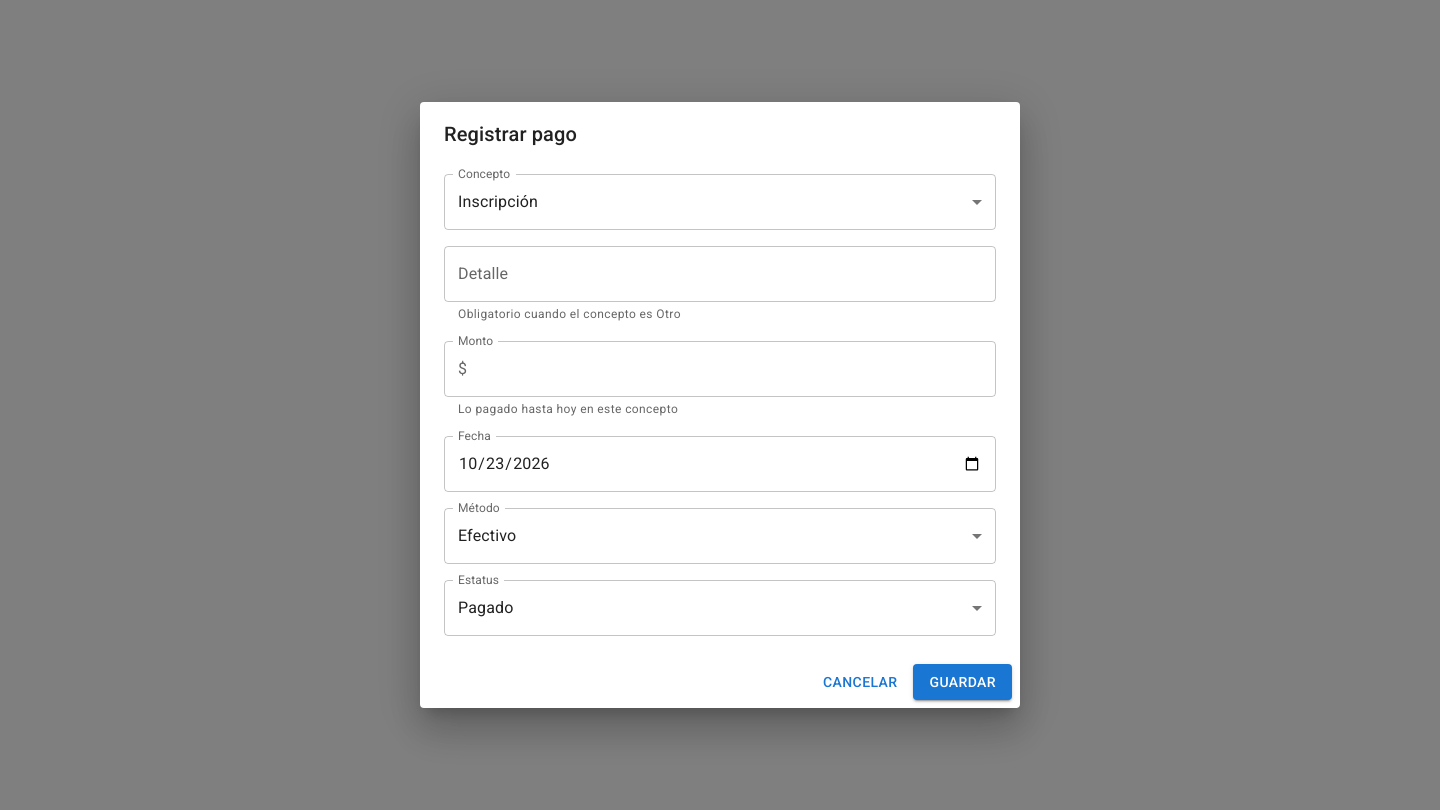
Test: Otro without a note is blocked with a field error
The width and height of the screenshot is (1440, 810).
Select "Otro" in the dropdown labelled "Concepto" at (720, 202), box [444, 174, 996, 230]
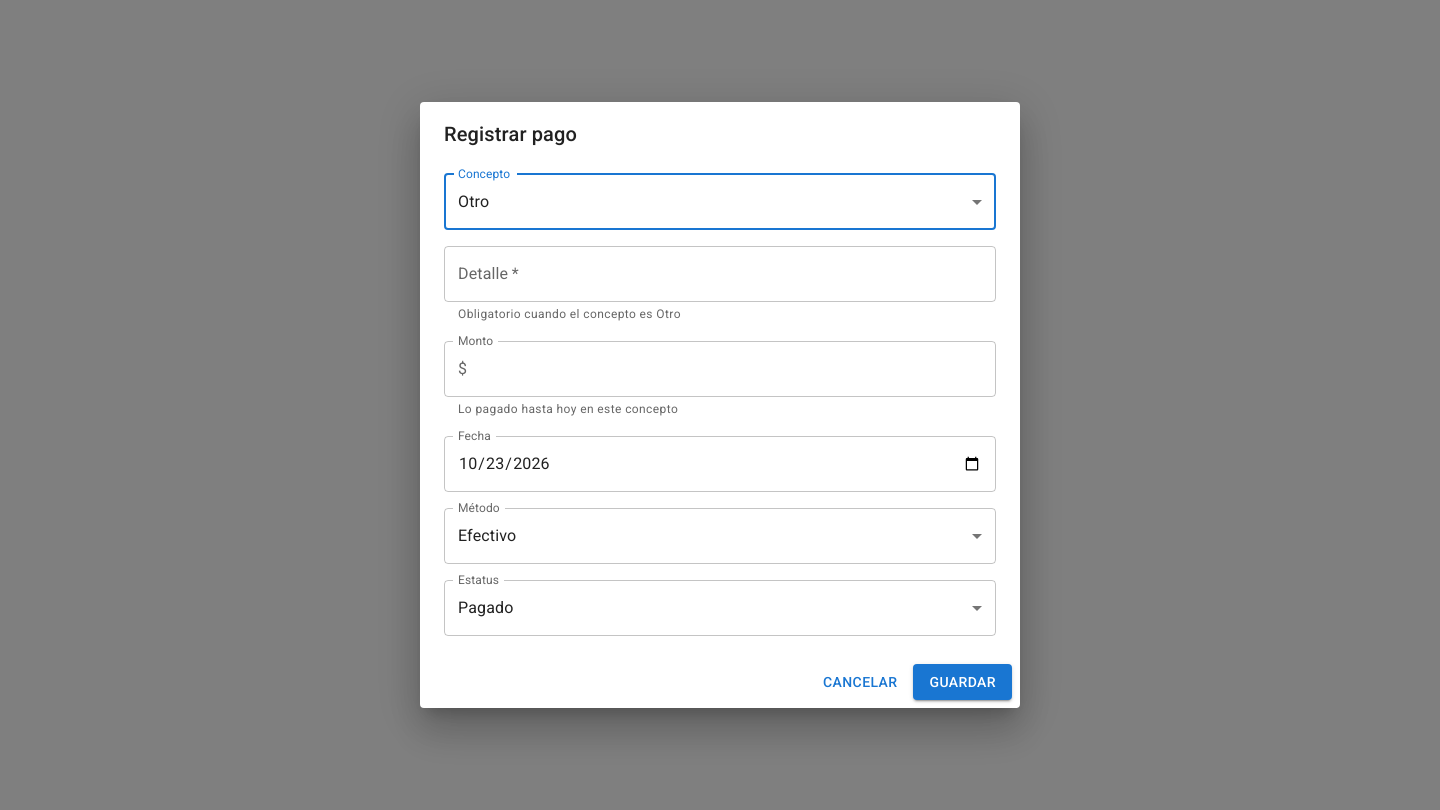
Type "100" into the field labelled "Monto".
click(736, 369); type("100")  # box [475, 341, 996, 397]
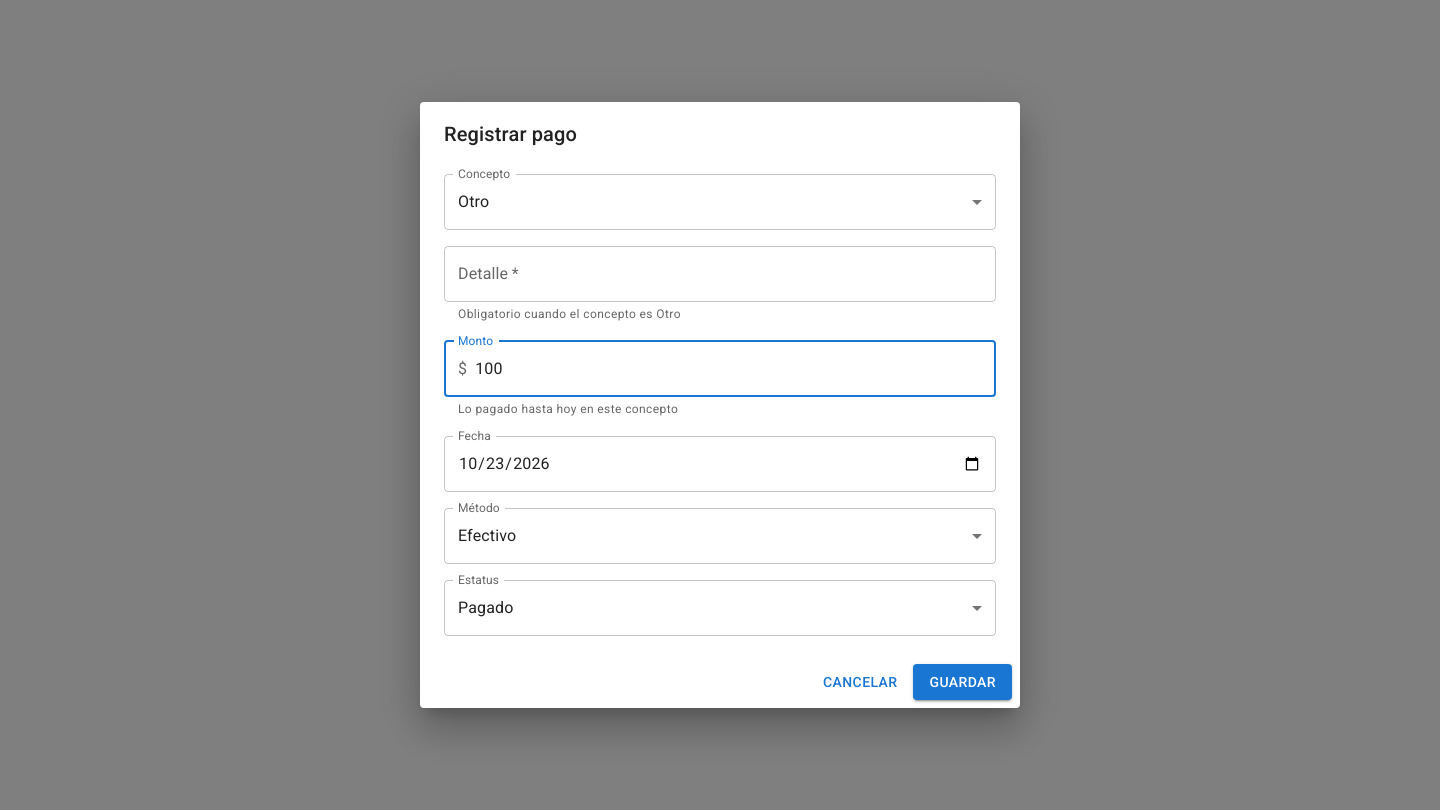
Click the button "Guardar".
click(963, 682)  # box [914, 664, 1012, 700]
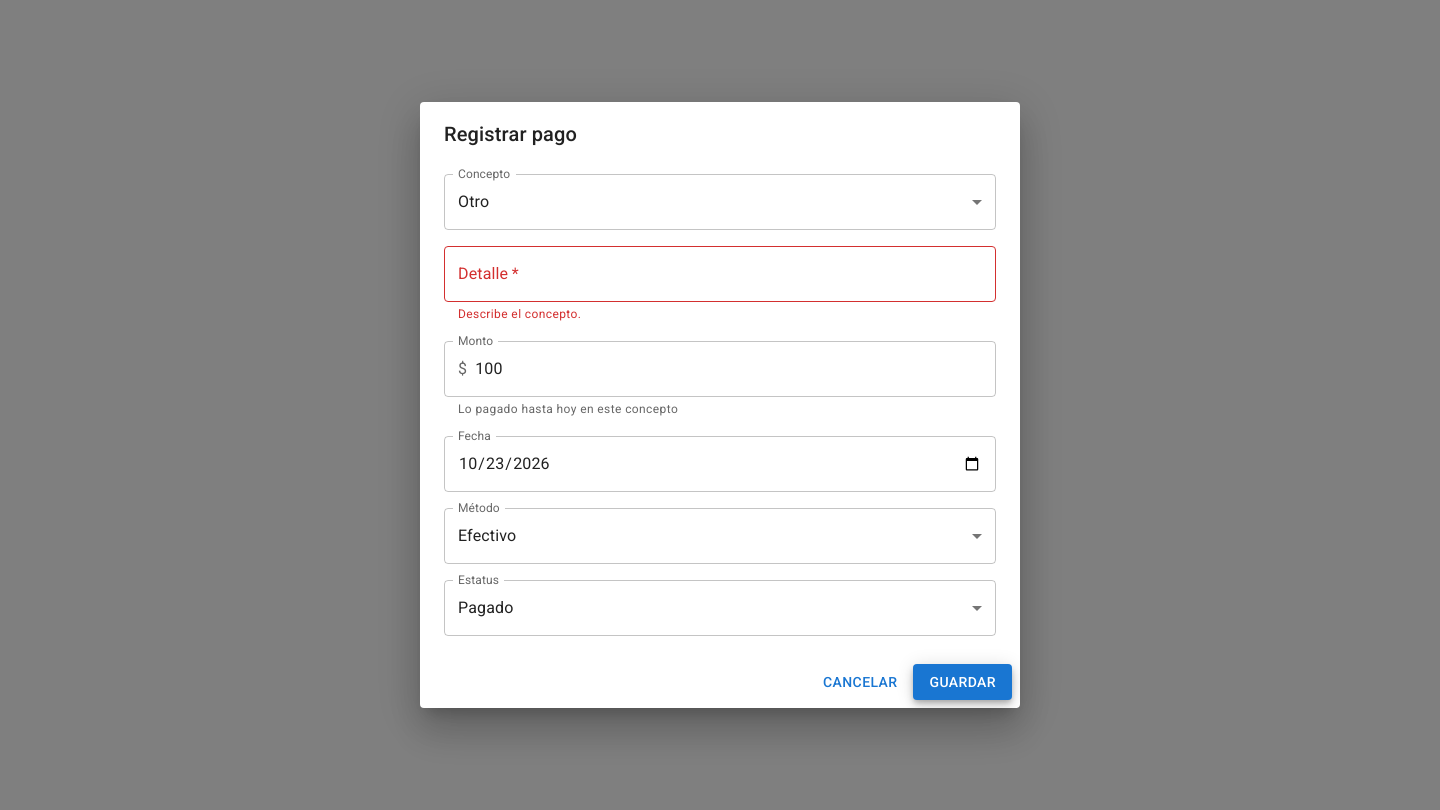
Check: the text "Describe el concepto." is shown, box [458, 307, 581, 321]
